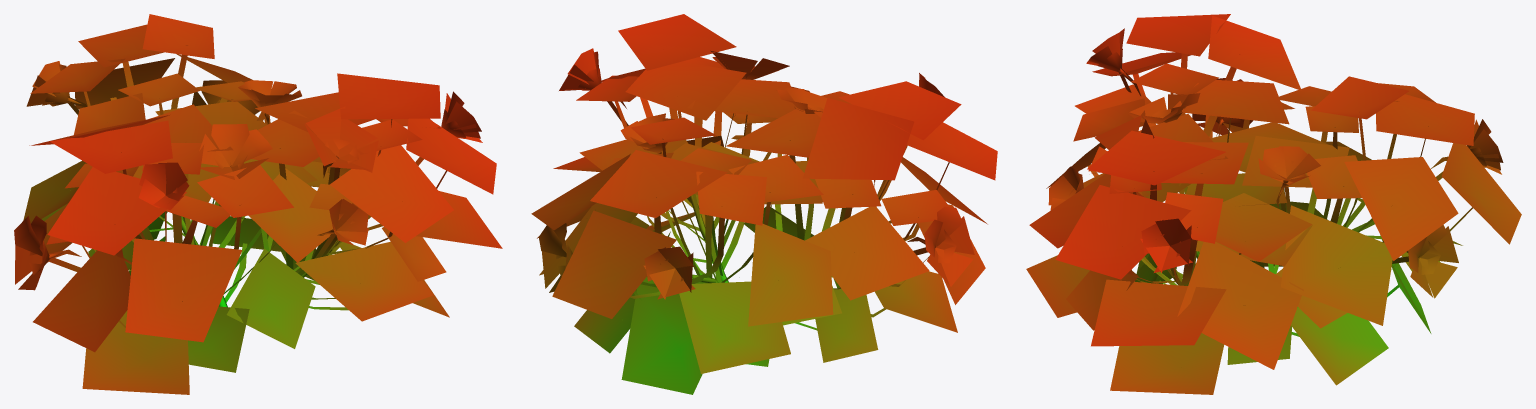
Rendered from Var1_LOD2.fbx.
3 renders of one model, left to right at view 1: azimuth 30°, elevation 25°; view 2: azimuth 150°, elevation 25°; view 3: azimuth 270°, elevation 25°, orthographic. The views are drawn at different scales.
Parts seen in each view (by area): view 1: _f888_Var1_LOD2; view 2: _f888_Var1_LOD2; view 3: _f888_Var1_LOD2.
Part boxes in pixels (x1,y1,x2,y2): _f888_Var1_LOD2: [14, 14, 502, 394]; _f888_Var1_LOD2: [531, 14, 997, 394]; _f888_Var1_LOD2: [1026, 14, 1521, 394].
Bounding box in the file's own units: 44.54 × 24.11 × 44.24.
